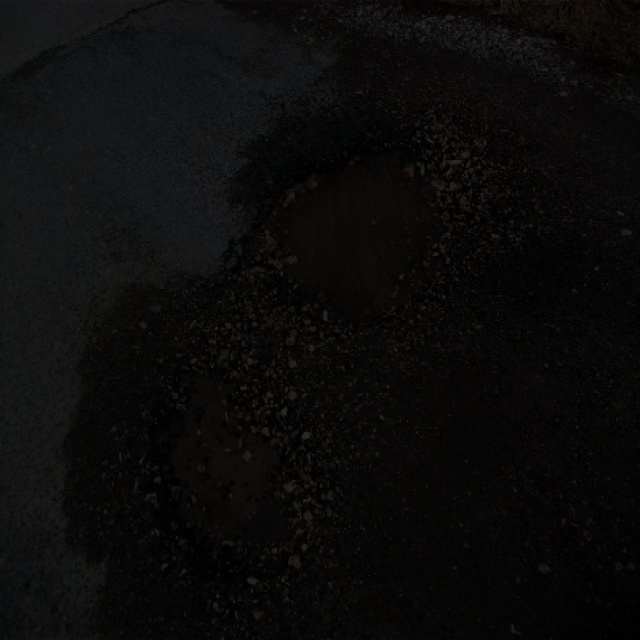Pothole: (144, 344, 326, 580), (250, 128, 456, 332)
